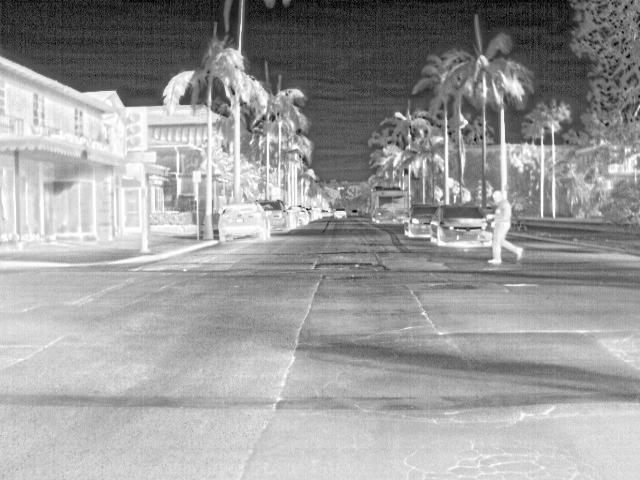car: (432, 206, 488, 248), (219, 203, 272, 244), (403, 204, 438, 239), (261, 199, 292, 233), (287, 207, 302, 227), (308, 206, 324, 220), (298, 207, 310, 223), (334, 207, 348, 218), (350, 206, 359, 218)
person: (487, 190, 525, 266)
